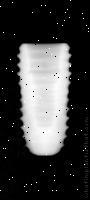Cowellmedi: (17, 43, 71, 157)
